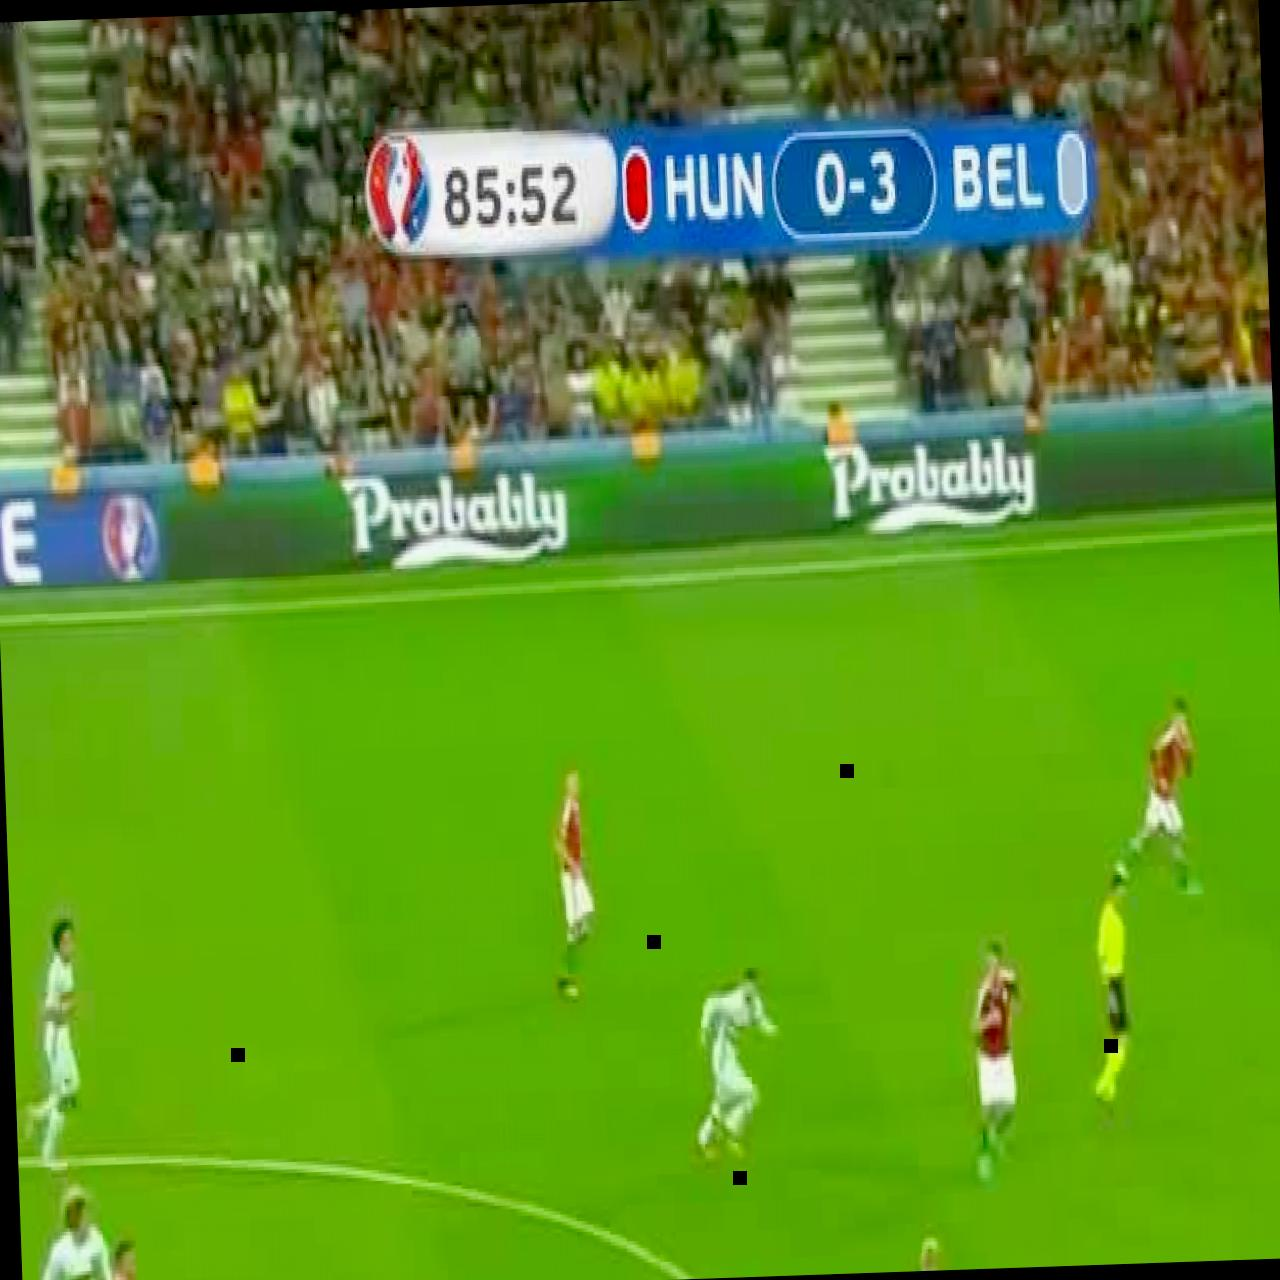football: (687, 958, 781, 1163), (17, 914, 82, 1172), (1120, 697, 1202, 900), (968, 940, 1028, 1180), (1088, 861, 1137, 1108), (549, 760, 599, 999), (36, 1182, 109, 1280), (875, 1232, 960, 1272), (84, 1240, 141, 1280)
